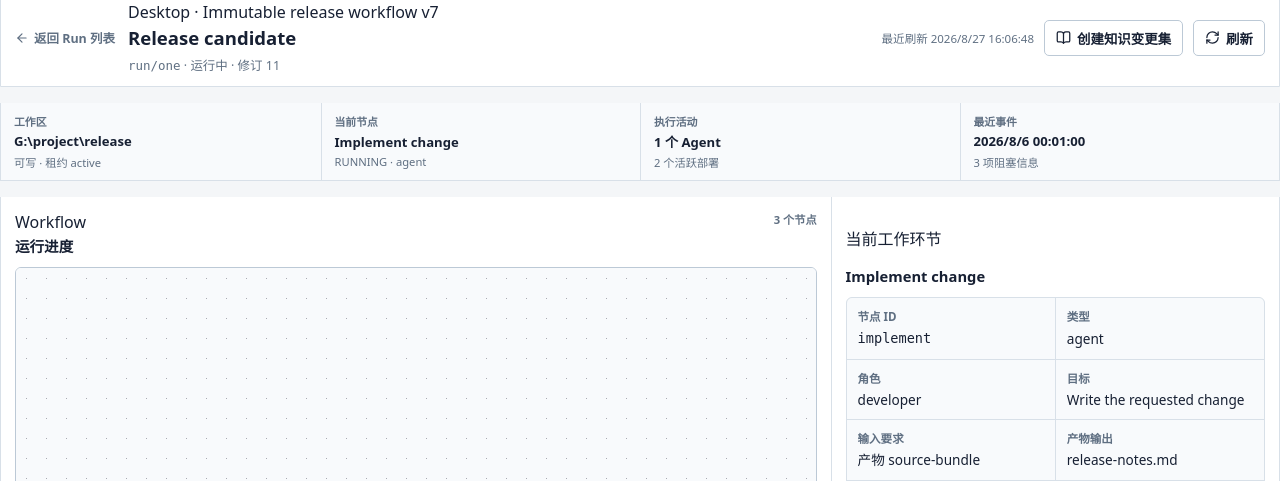
Test: RunDetailPage › retains cached data after refresh failure and reports a revision conflict
Expected: the heading "Release candidate" is shown, [128, 25, 296, 50]
Click the button "刷新" at (1229, 38), box [1193, 20, 1265, 56]
(page scrolled)
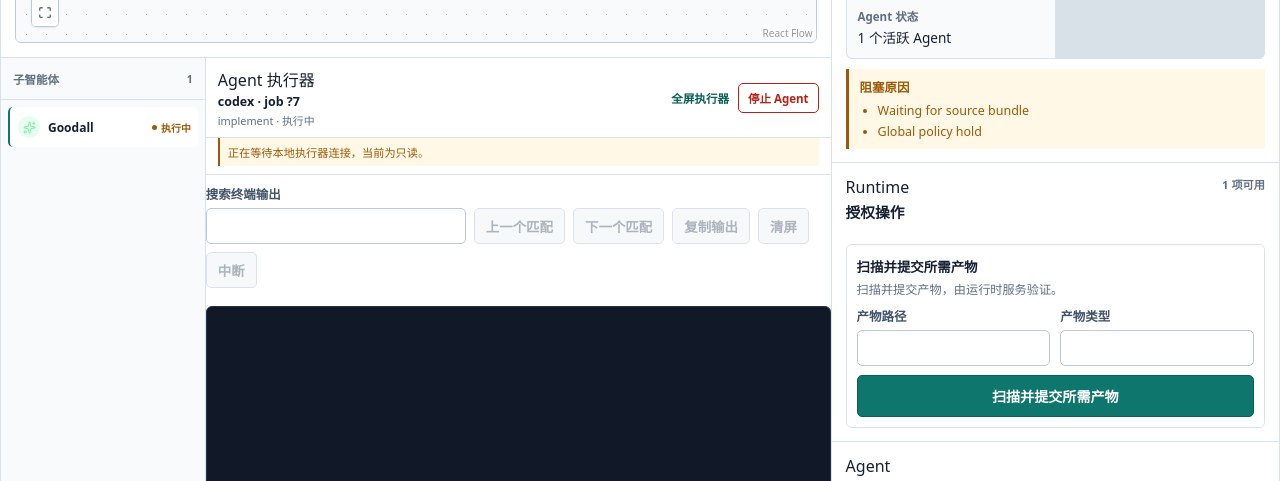
Type "docs/release.md" into the field labelled "产物路径" at (953, 348), box [857, 330, 1050, 366]
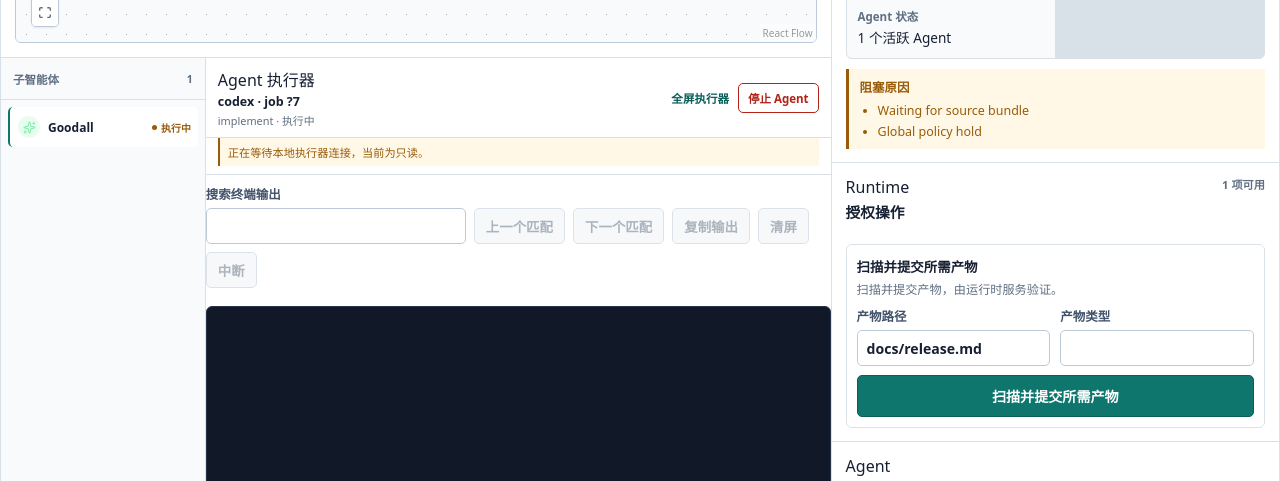
Type "document" into the field labelled "产物类型" at (1157, 348), box [1060, 330, 1254, 366]
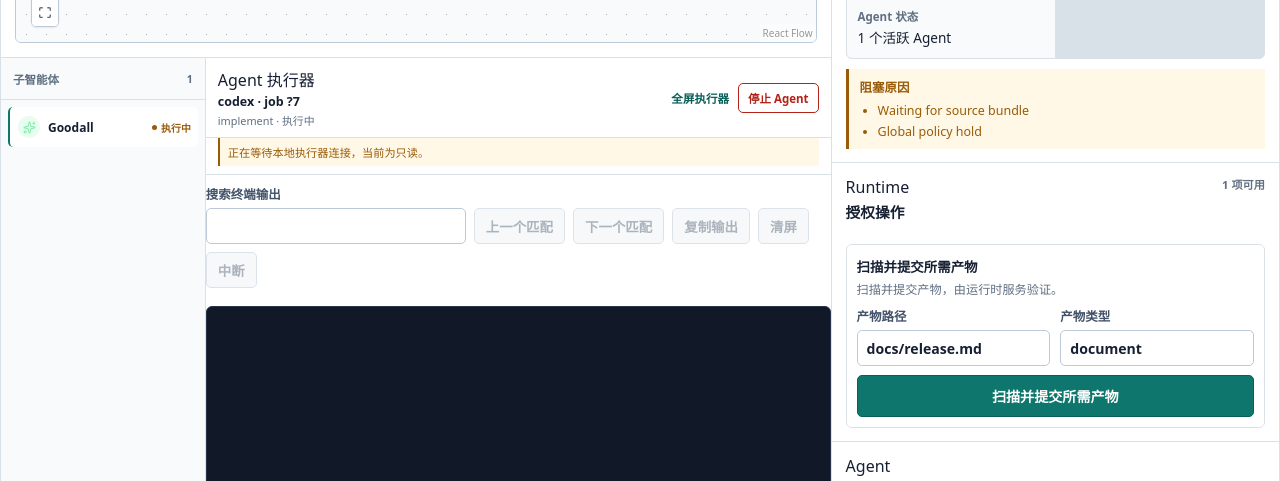
Click the button "扫描并提交所需产物" at (1055, 396), box [857, 375, 1254, 417]
(page scrolled)
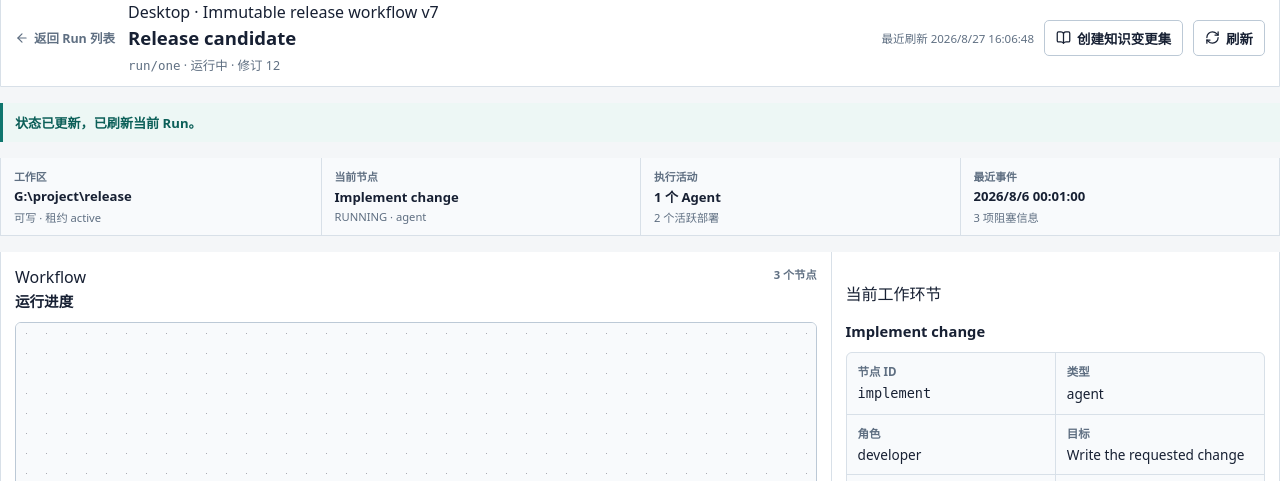
Expected: the text "状态已更新，已刷新当前 Run。" is shown, [0, 103, 1279, 142]
Expected: the text "run/one · 运行中 · 修订 12" is shown, [128, 57, 280, 74]
